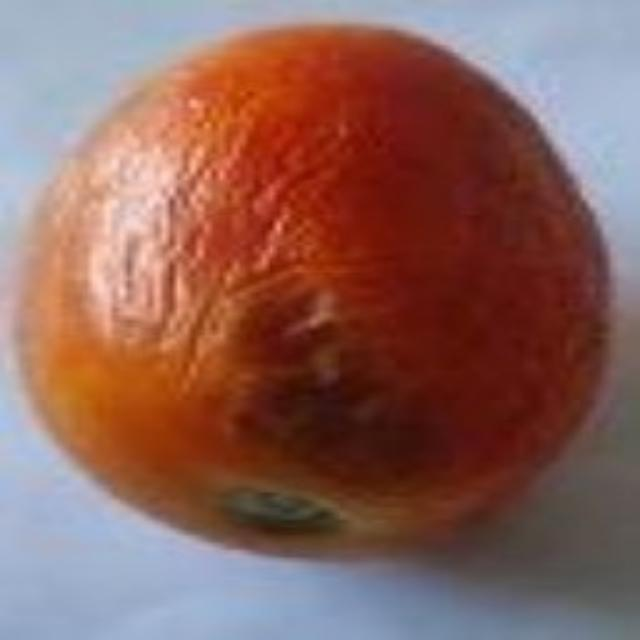defect: (20, 19, 623, 562)
